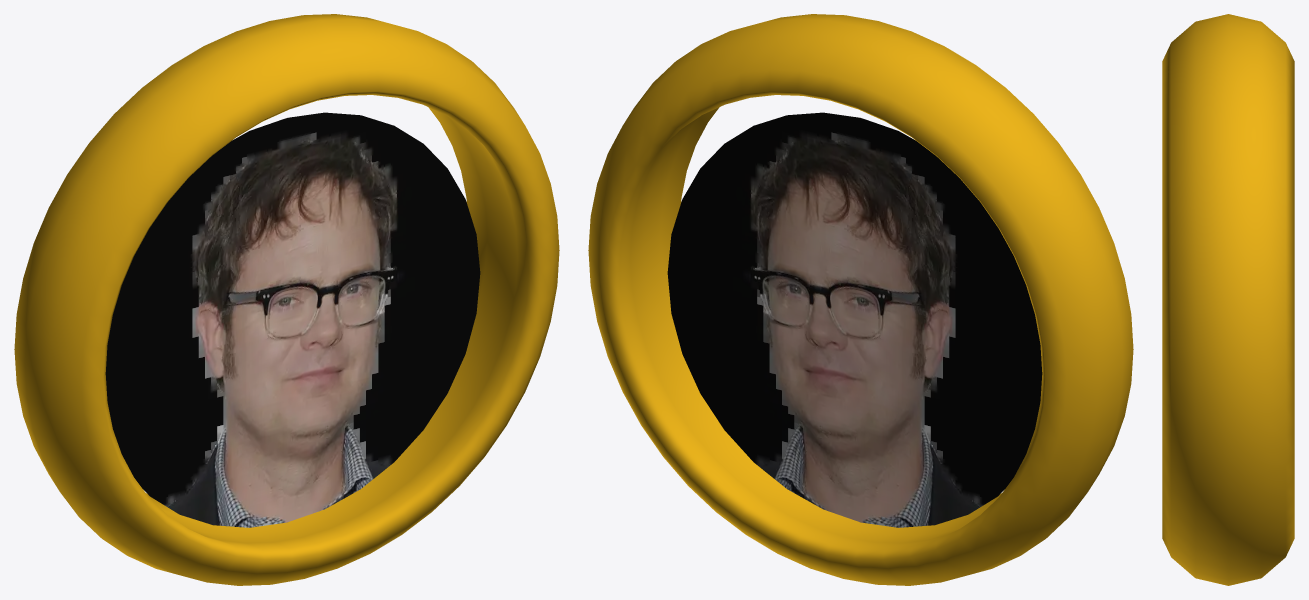
Rendered from ring.gltf.
The picture shows the model from 3 angles, left to right: view 1: azimuth 30°, elevation 25°; view 2: azimuth 150°, elevation 25°; view 3: azimuth 270°, elevation 25°; orthographic projection. The views are drawn at different scales.
Parts seen in each view (by area): view 1: Circle, Torus; view 2: Circle, Torus; view 3: Torus.
Part boxes in pixels (x1,y1,x2,y2): Circle: [105, 112, 480, 527]; Torus: [14, 14, 559, 585]; Circle: [667, 112, 1042, 527]; Torus: [588, 14, 1133, 585]; Torus: [1162, 14, 1294, 585].
Size of the model in its own units: 2.17 by 2.16 by 0.5.
Materials: 2 (1 with a texture image).
